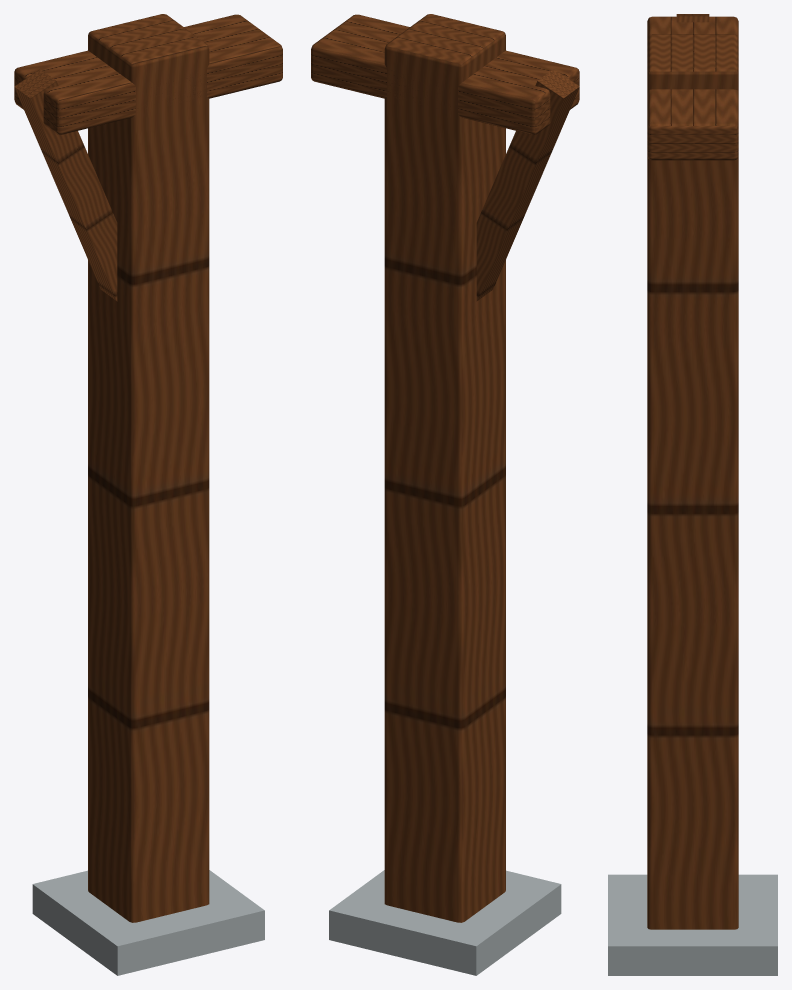
File: modular-survival-base-builder-braced-knee-post-7162da7f__24223.glb
The picture shows the model from 3 angles, left to right: view 1: azimuth 30°, elevation 25°; view 2: azimuth 150°, elevation 25°; view 3: azimuth 270°, elevation 25°; orthographic projection.
Parts seen in each view (by area): view 1: braced-knee-post; view 2: braced-knee-post; view 3: braced-knee-post.
Boxes of the visible parts, x1,y1,x2,y2 form: braced-knee-post: [14, 14, 282, 975]; braced-knee-post: [311, 14, 579, 975]; braced-knee-post: [608, 14, 777, 975].
Bounding box in the file's own units: 0.6771 × 2.4 × 0.416.
Materials: 2 (1 with a texture image).
